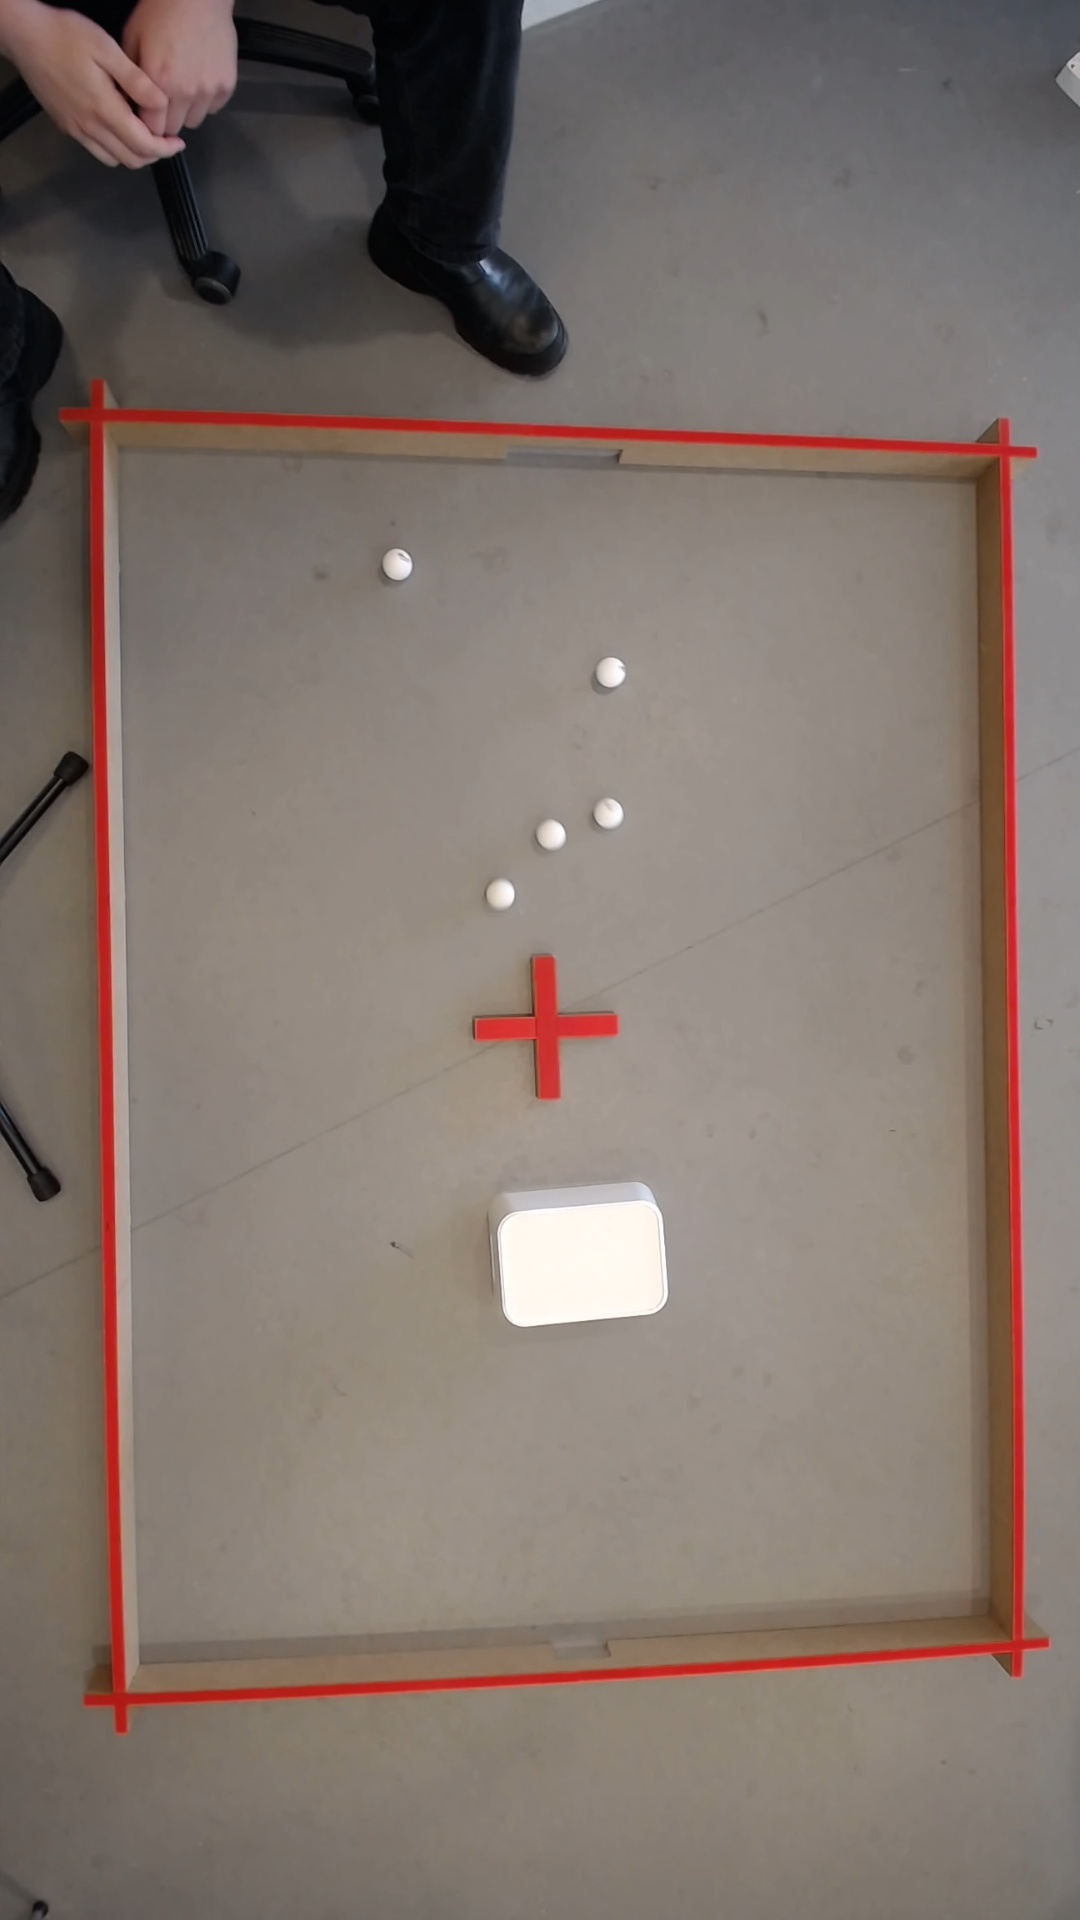balls: (491, 1182, 671, 1329), (384, 546, 417, 580), (595, 796, 626, 829), (597, 655, 626, 687), (543, 822, 564, 847)
car: (493, 881, 514, 906)
